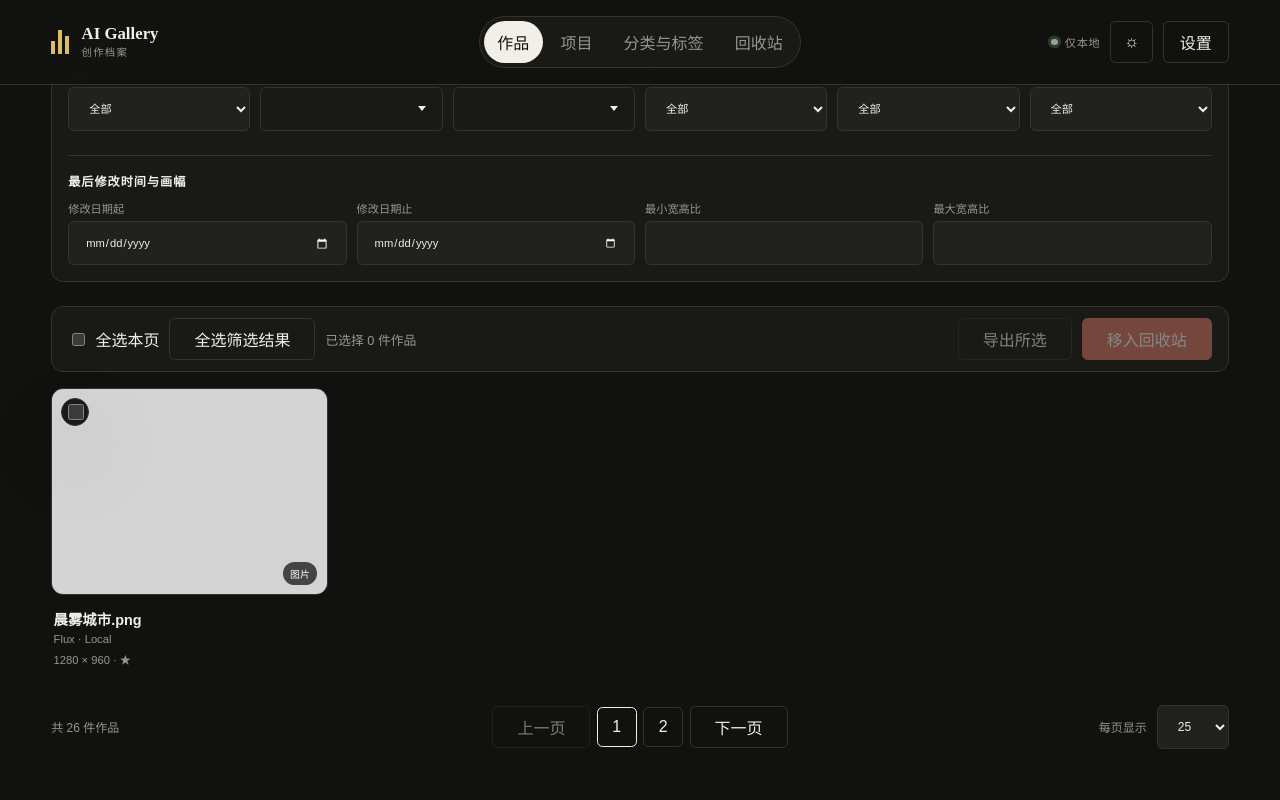
Test case: M2 作品库页面 › 分页替换摘要以保持有界 DOM，卡片只渲染缩略图地址
The image size is (1280, 800).
(page scrolled)
Expected: the heading "晨雾城市.png" is shown, [54,612,142,628]
Click the button "2": click(663, 727) [643,707,683,747]
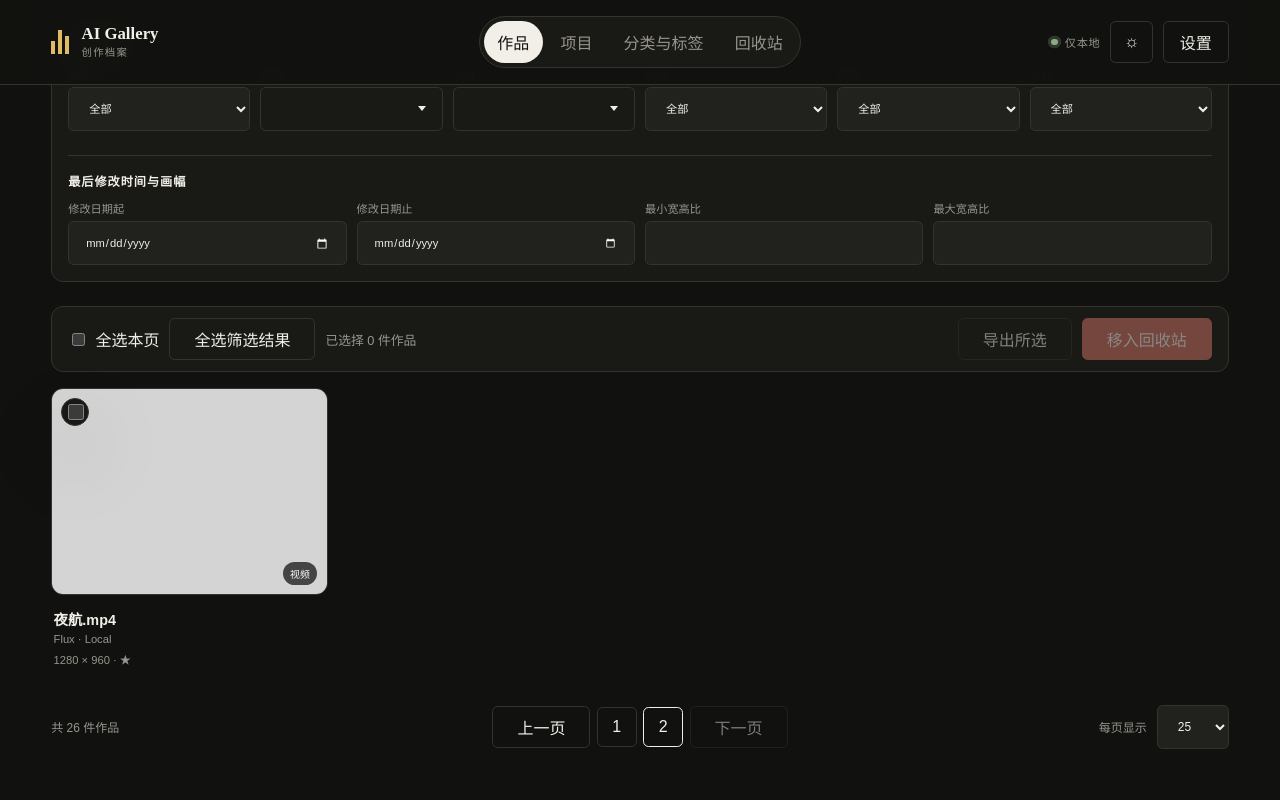
Expected: the picture is shown, [52,389,327,596]
Expected: the heading "夜航.mp4" is shown, [54,612,116,628]
